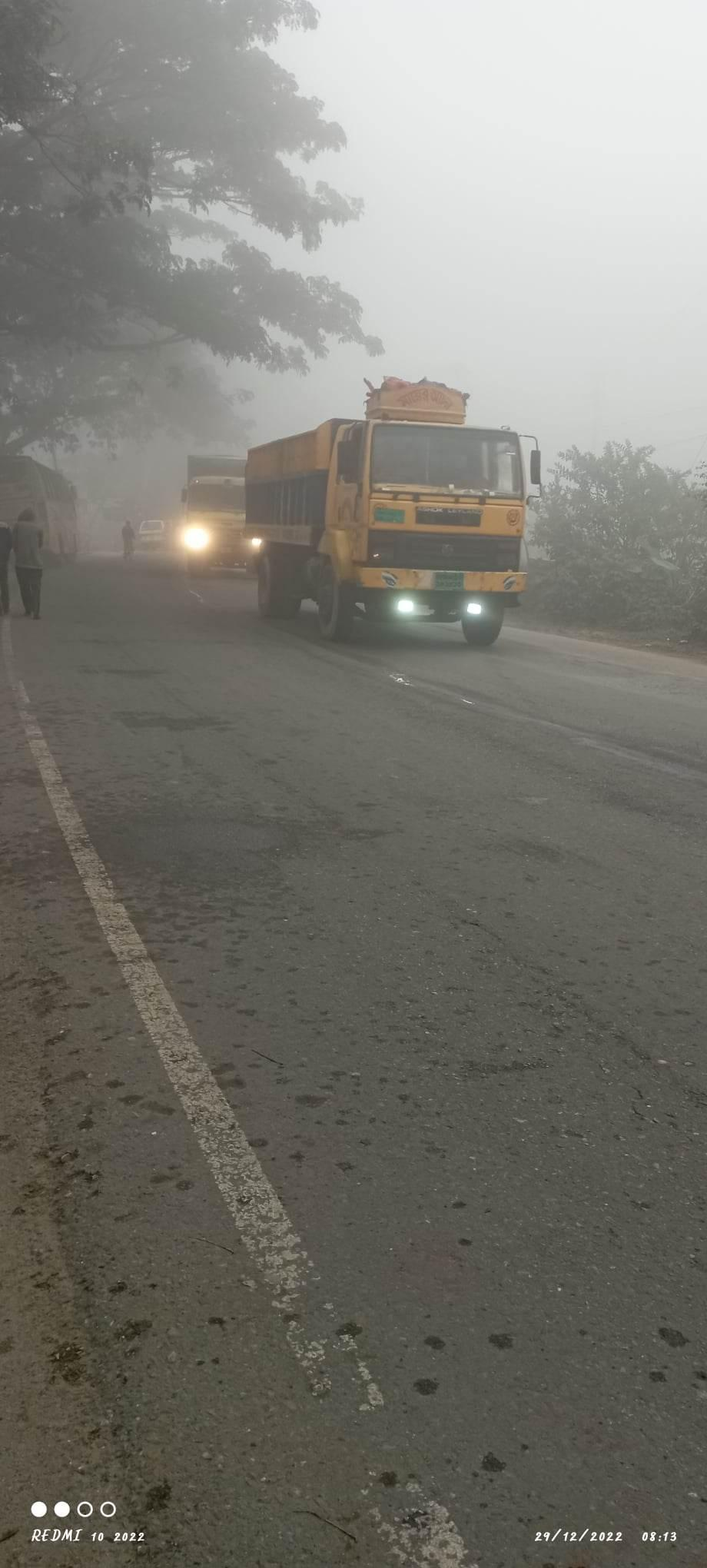Car: (119, 506, 170, 558)
Truck: (244, 380, 547, 687), (171, 435, 277, 607)
